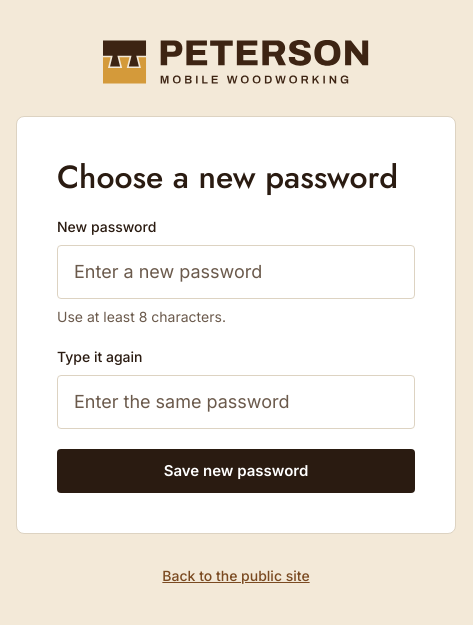
ResetPasswordPage › shows the mismatch error and saves nothing
Type "new-password-123" into the password field labelled "New password" at (236, 272), box [57,245,415,299]
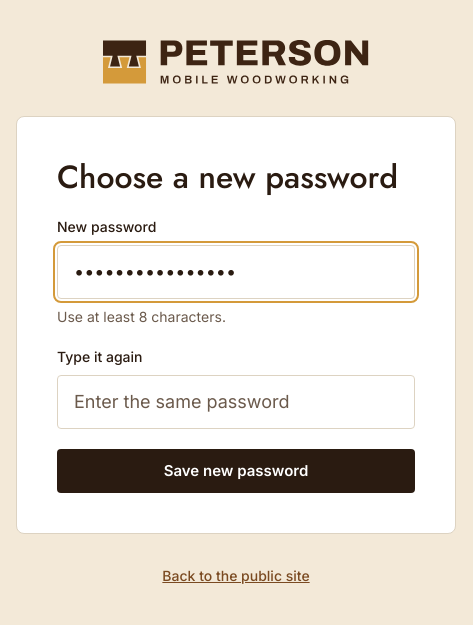
Type "new-password-12" into the password field labelled "Type it again" at (236, 402), box [57,375,415,429]
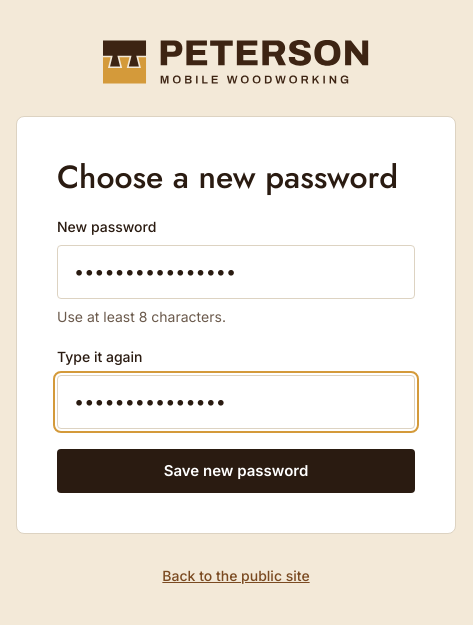
Click the button "Save new password" at (236, 471), box [57,449,415,493]
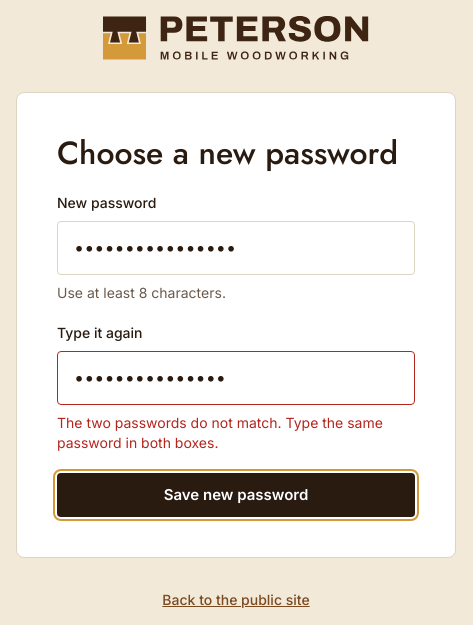
Expected: the text "Use at least 8 characters." is shown, [57,284,226,301]
Now the text "The two passwords do not match. Type the same password in both boxes." is shown, box [57,413,415,453]
